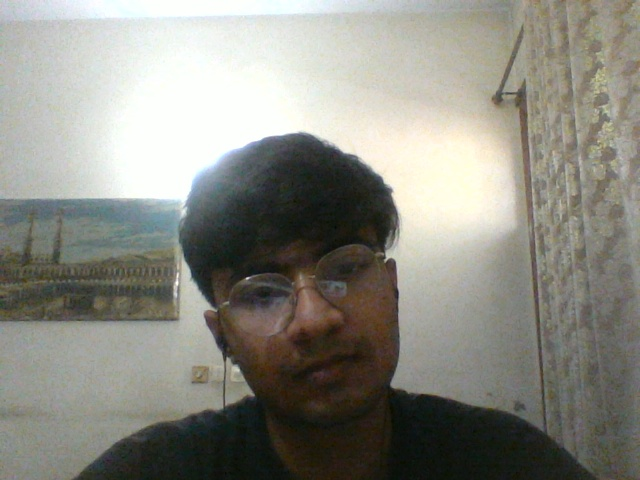neutral: (213, 241, 414, 429)
